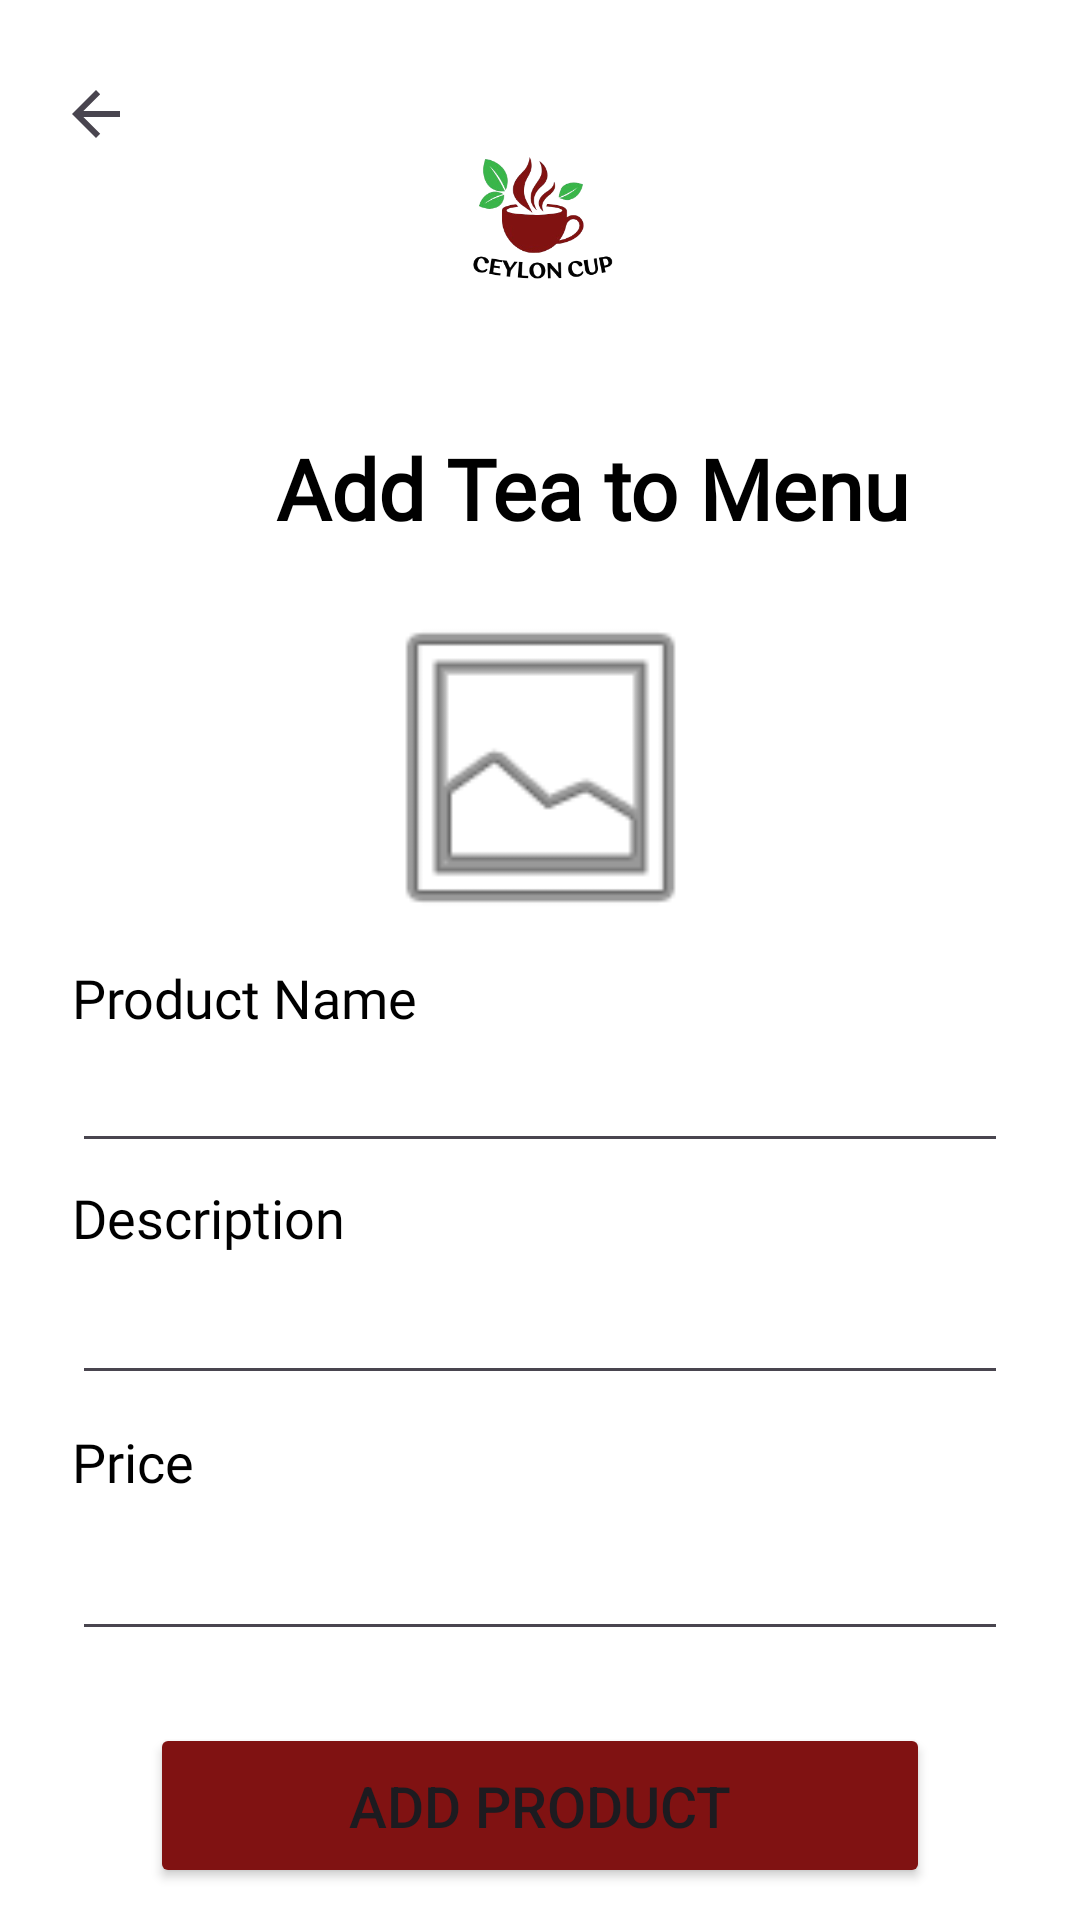

Where icons sit on this 1080px×1920px app screen, as (x1, y1, x2, y2):
gallery: (406, 633, 675, 902)
